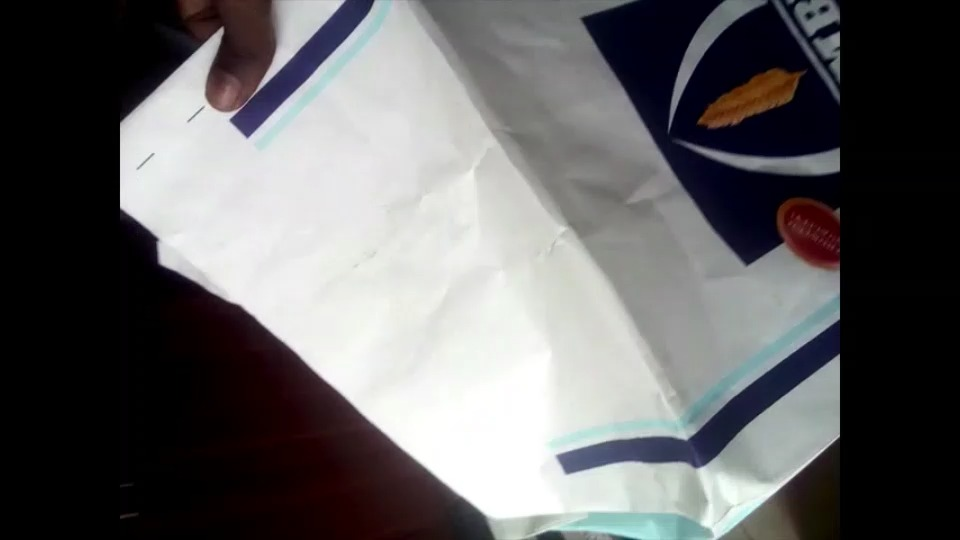wheat_flour_blue_label: (117, 0, 843, 537)
